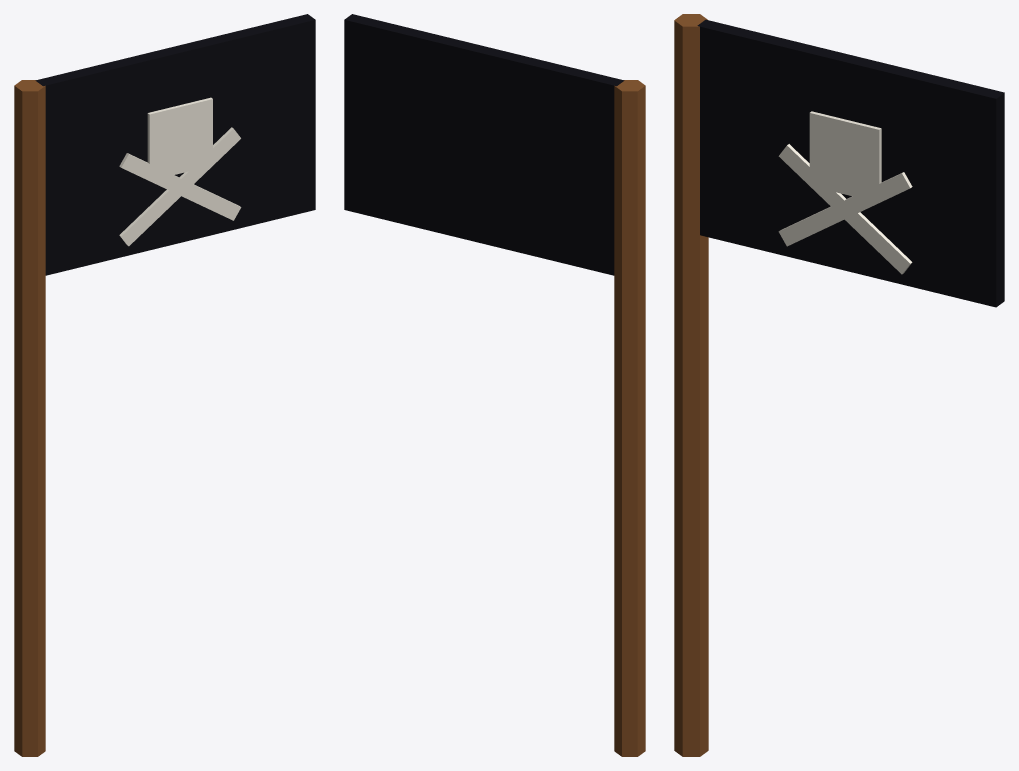
Rendered from pirate_flag.glb.
3 views of the same model, side by side, from view 1: azimuth 30°, elevation 25°; view 2: azimuth 150°, elevation 25°; view 3: azimuth 330°, elevation 25° (orthographic). The views are drawn at different scales.
Visible parts, largest first — view 1: pirate_flag; view 2: pirate_flag; view 3: pirate_flag.
Boxes of the visible parts, <box> form: pirate_flag: <box>14,14,315,756</box>; pirate_flag: <box>344,14,645,756</box>; pirate_flag: <box>674,14,1004,756</box>.
Size of the model in its own units: 0.646 by 1.4 by 0.06.
